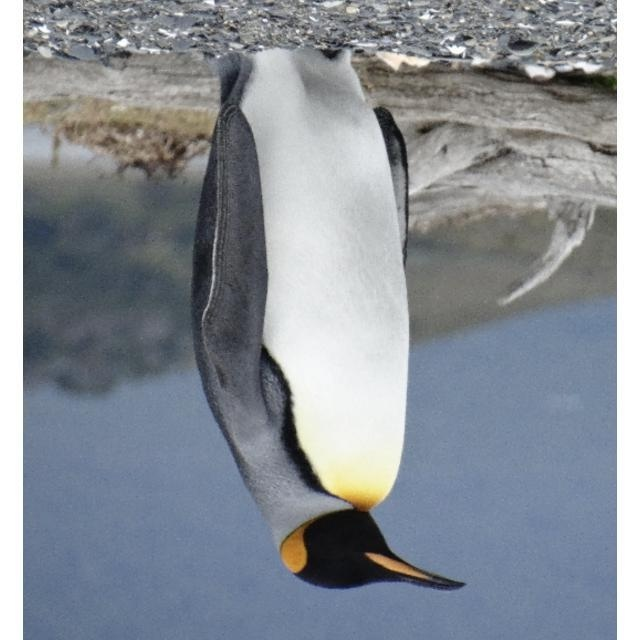penguin: (189, 35, 468, 590)
